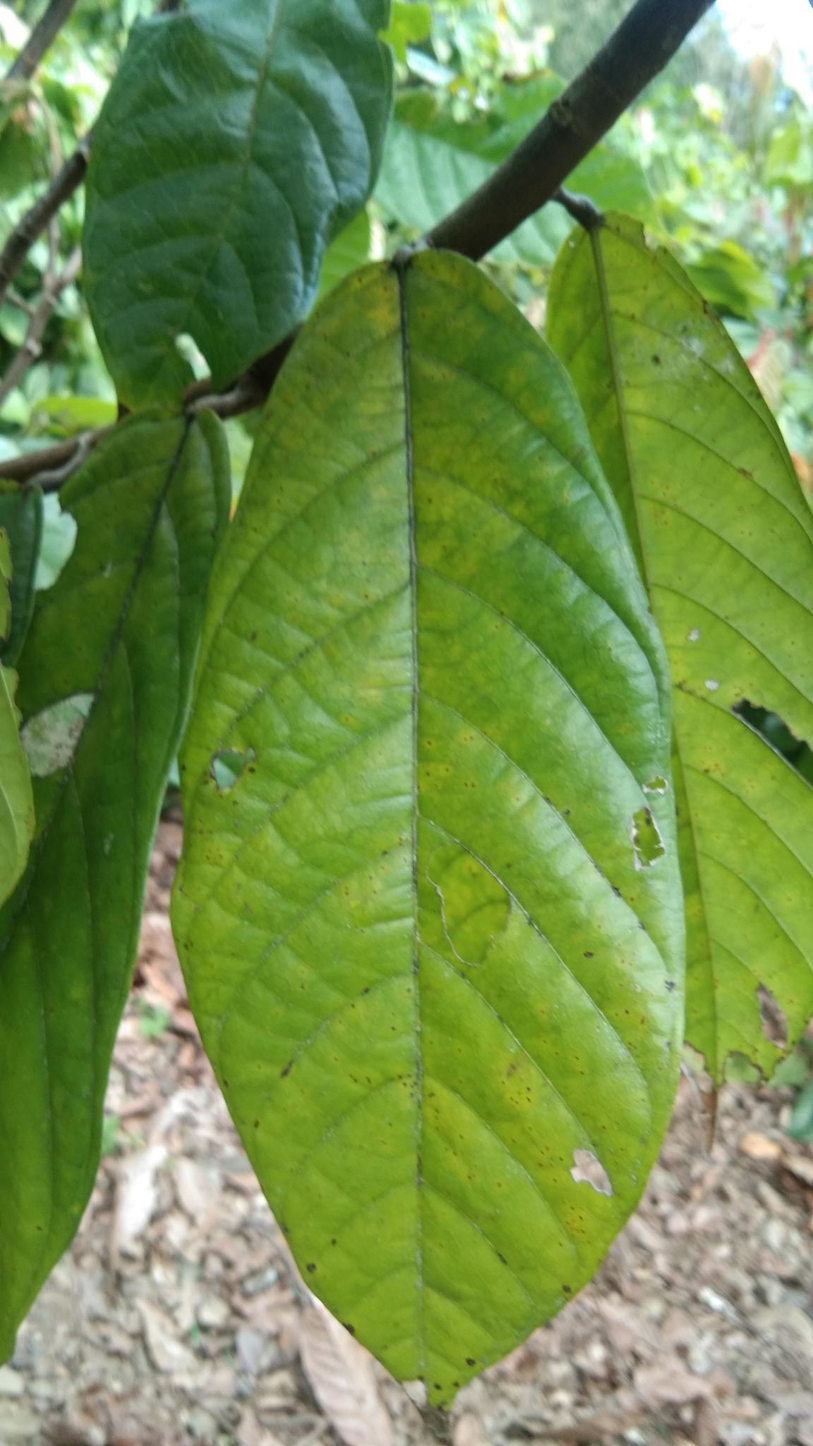Fosforo: (163, 209, 702, 1376)
